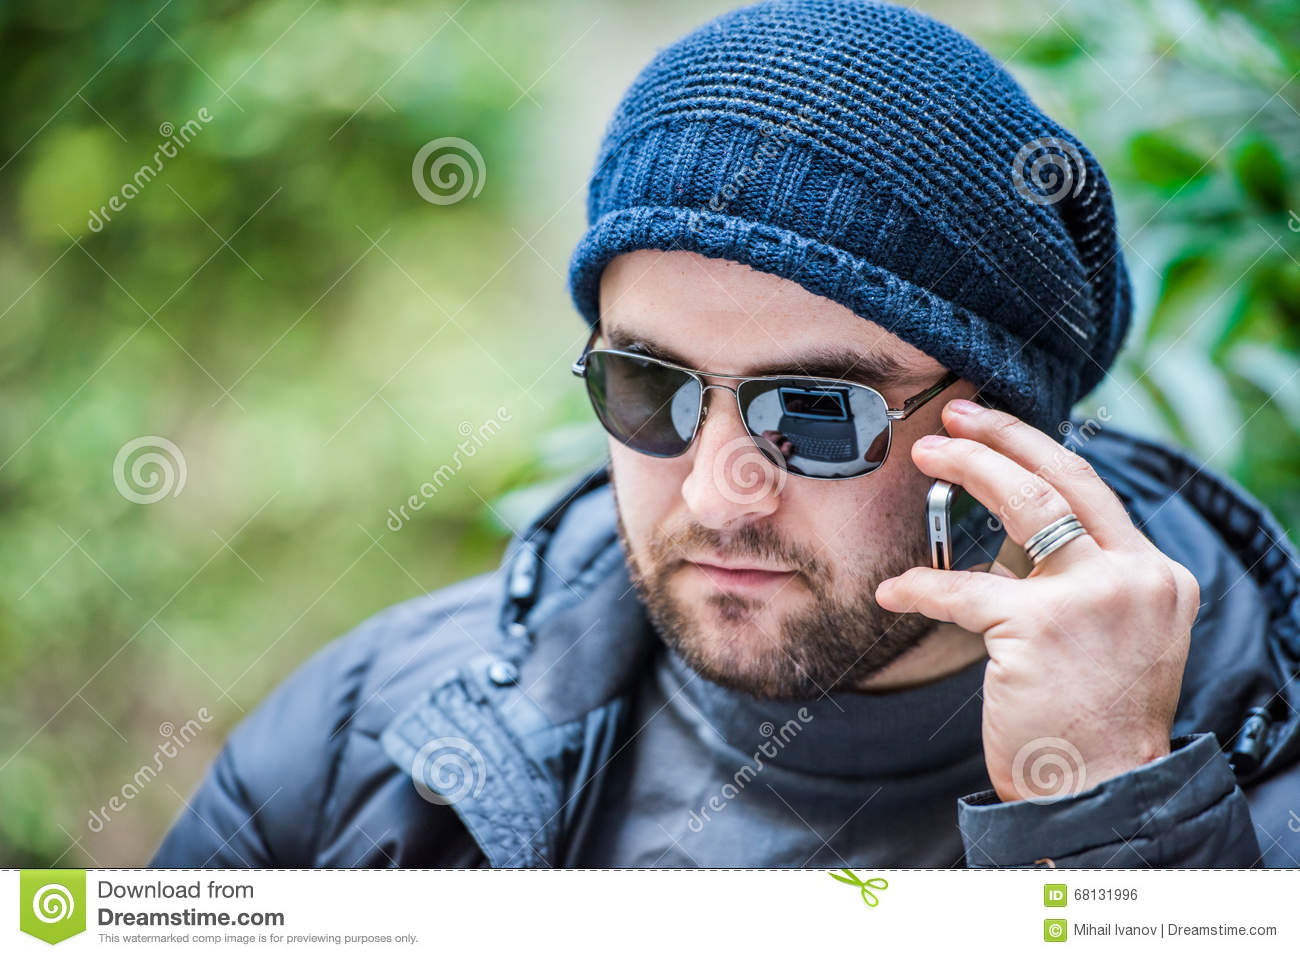phone: (925, 396, 1053, 575)
talk: (594, 311, 1205, 791)
